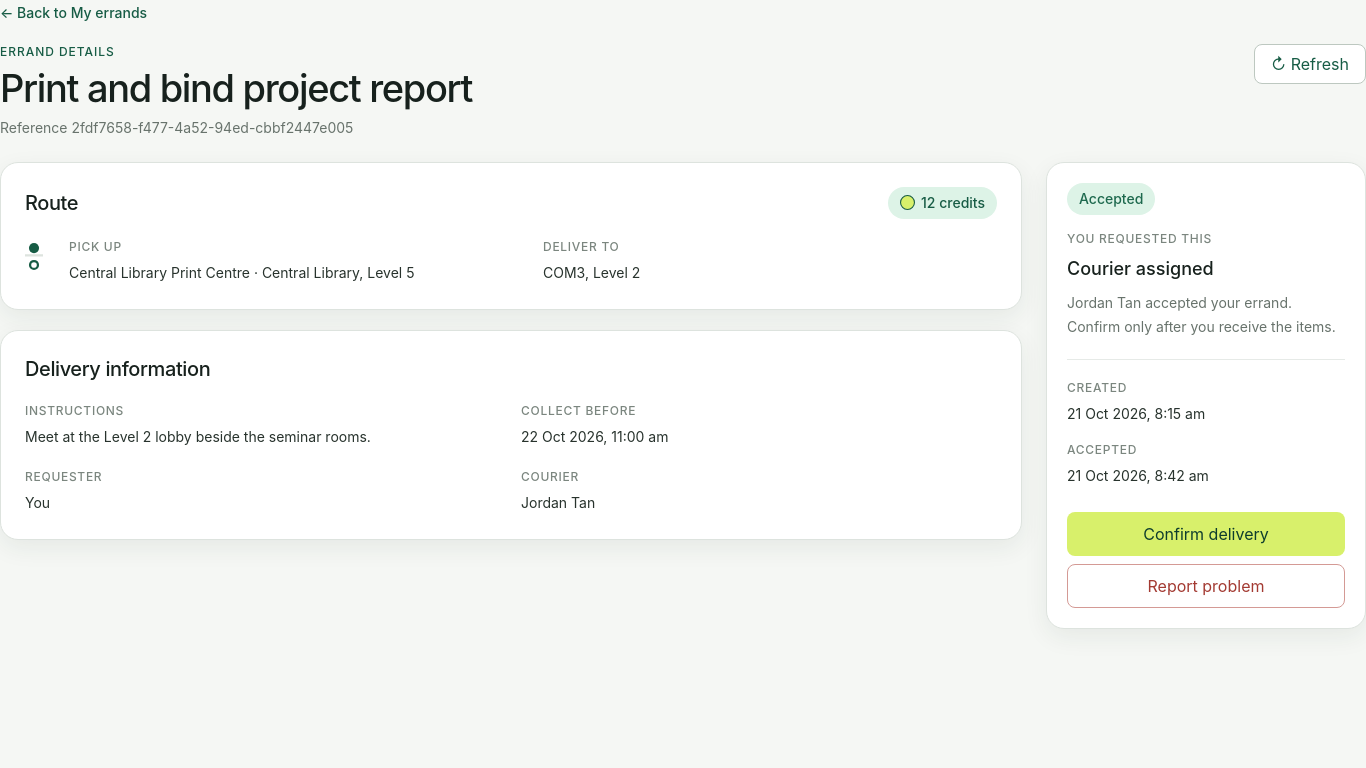
Test: ErrandDetailsPage › requires and submits a failure reason before reloading
Click the button "Report problem".
click(1206, 586)  # box [1067,564,1345,608]
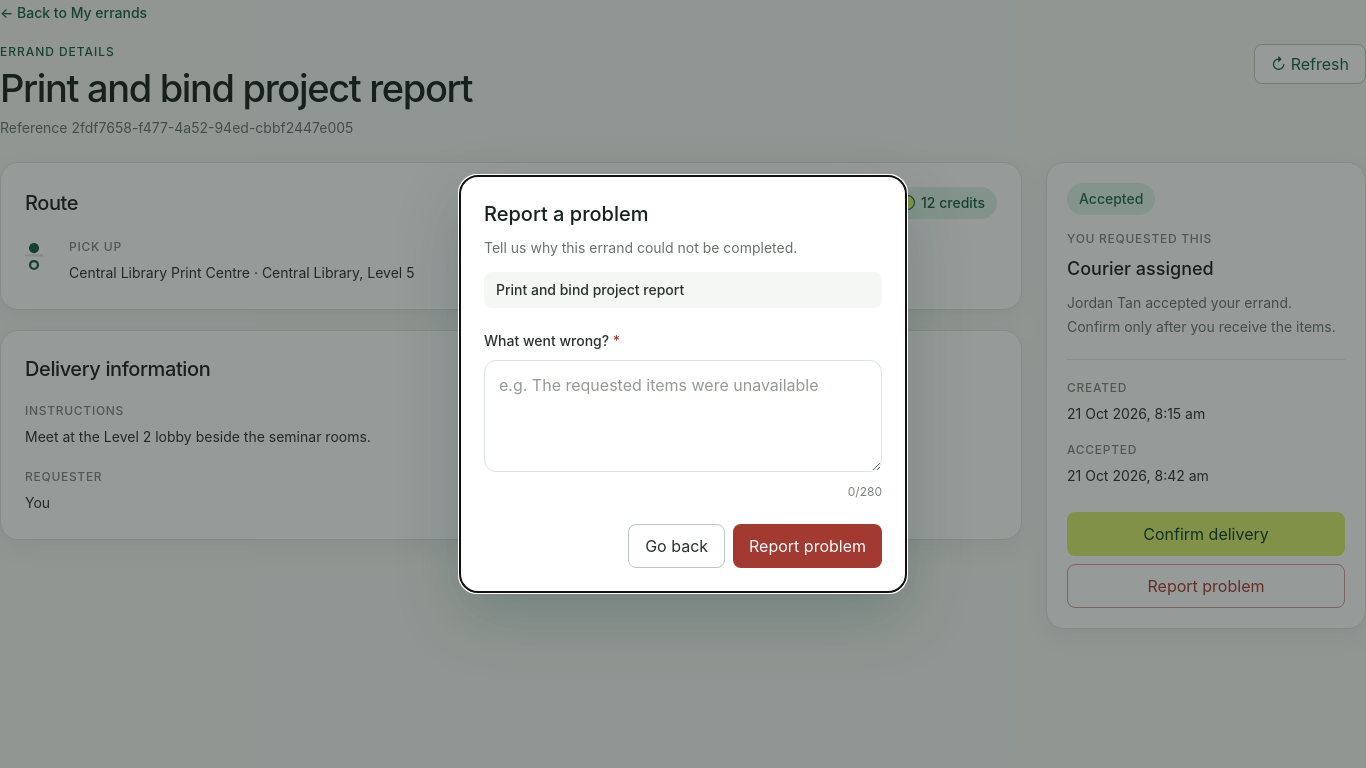
Click the button "Report problem".
click(808, 546)  # box [733,524,882,568]
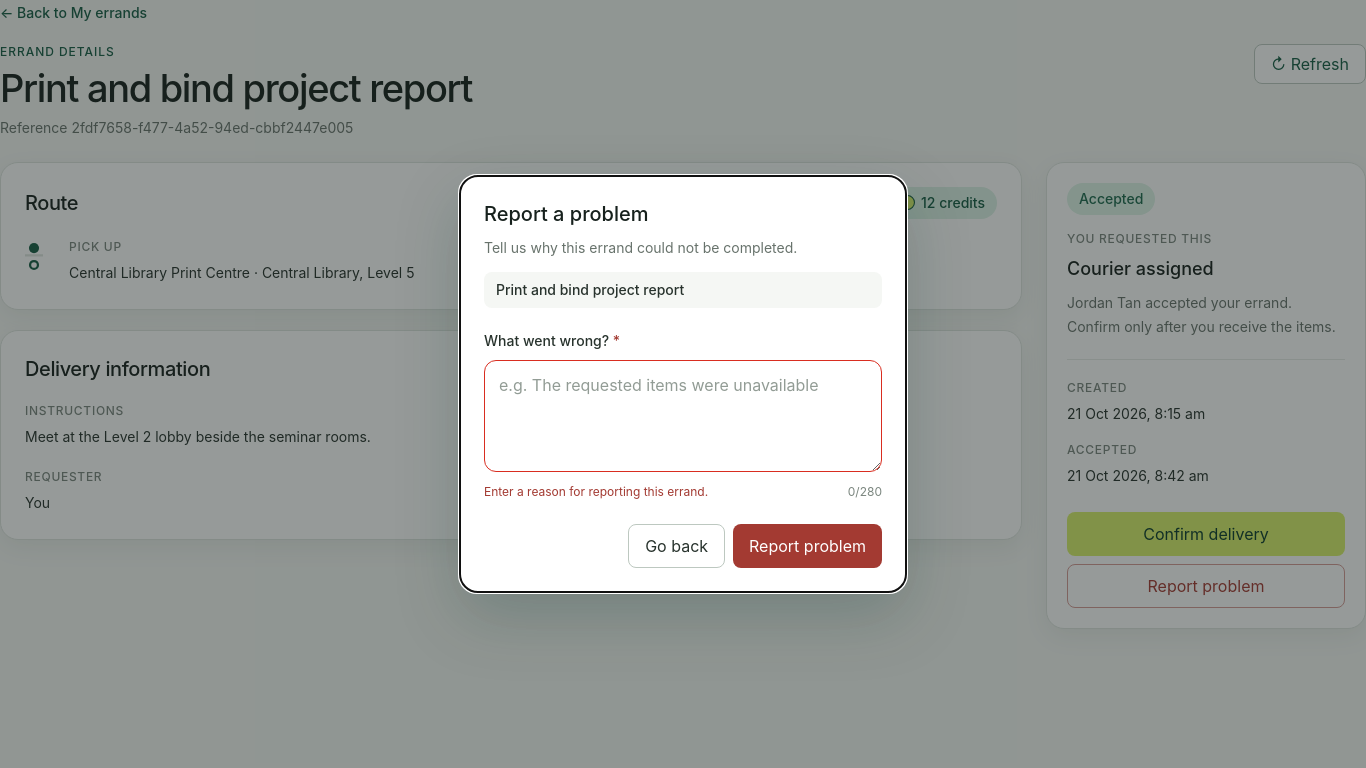
Expected: the message reads "Enter a reason for reporting this errand.", [484,484,708,499]
Type "The requested item was unavailable." into the text box labelled "What went wrong? *".
click(683, 416); type("The requested item was unavailable.")  # box [484,360,882,472]
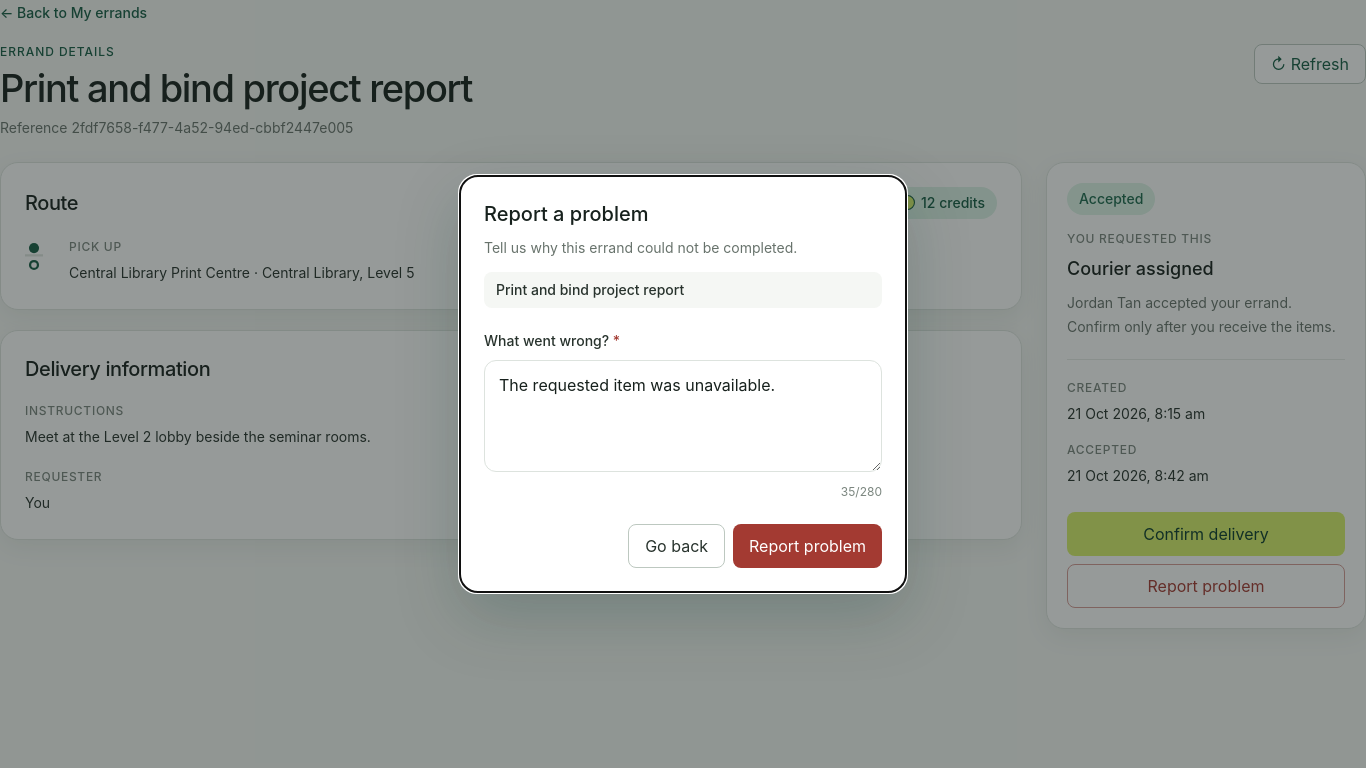
Click the button "Report problem".
click(808, 546)  # box [733,524,882,568]
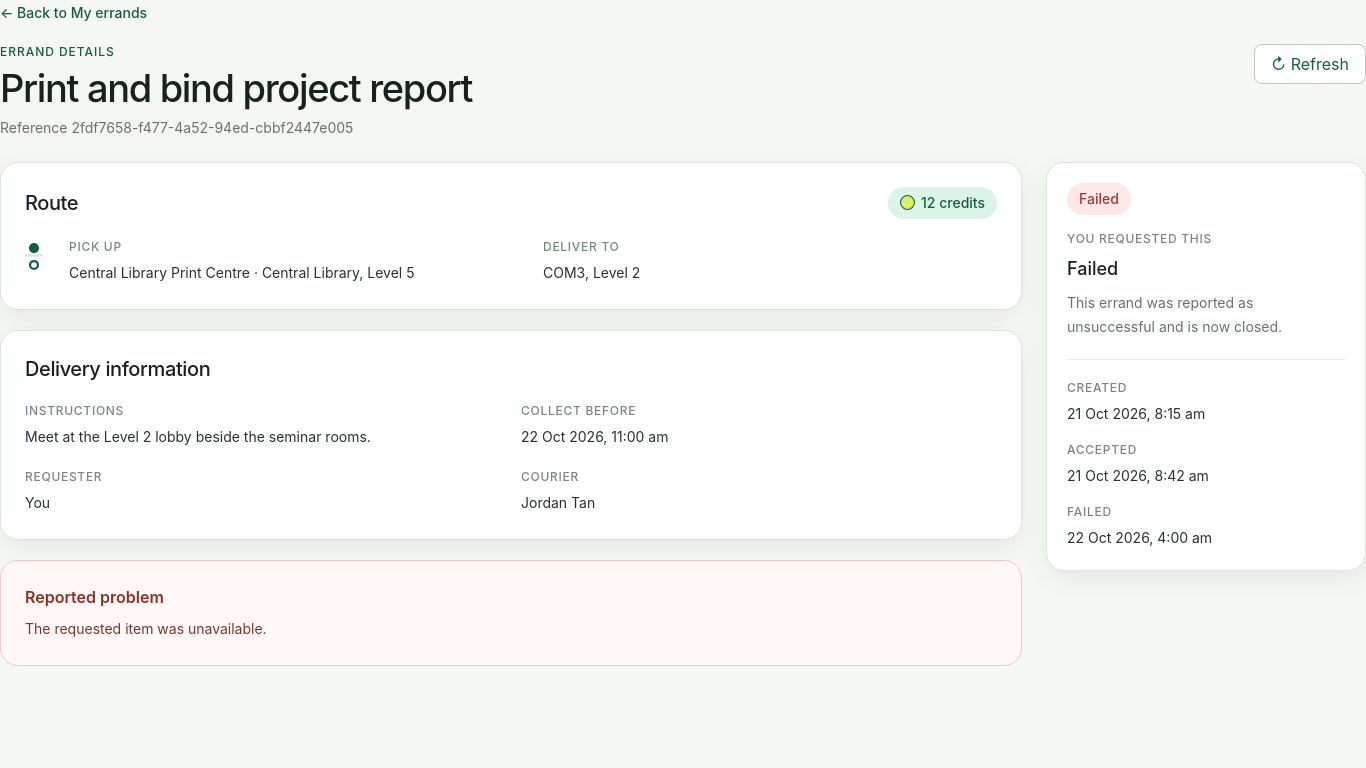
Expected: the heading "Failed" is shown, [1067,258,1118,279]
